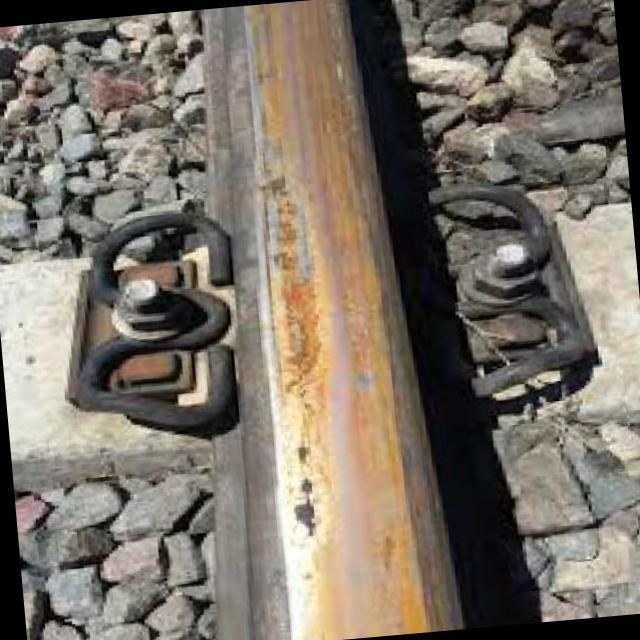defective: (84, 0, 471, 640)
